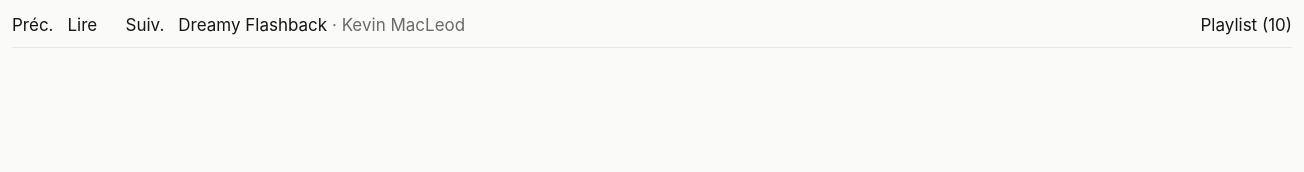
Test: MusicPlayer › joue la première piste et bascule le libellé du bouton
Click the button "Lire". click: (90, 26)
box: x1=68 y1=12 x2=112 y2=39
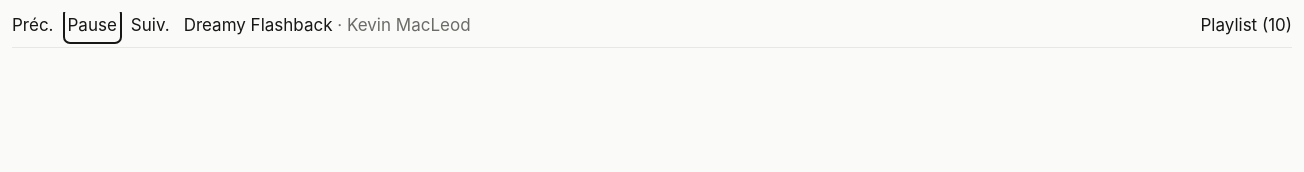
Now the button "Pause" is shown, box x1=68 y1=12 x2=117 y2=39
